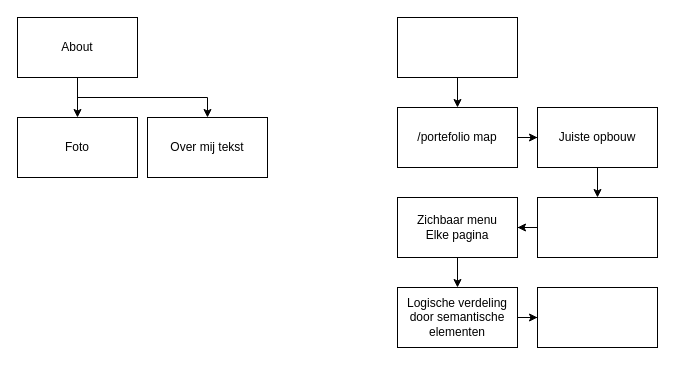
This 675x365 diagram has some shape labels left out. The shapes that lost their labels are listed below. From the top down, each one's centre as x and y in pixels, then its label:
At (457,47): "Code".
At (597,227): "Juiste title".
At (597,317): "CSS/JS in aparte documenten".
